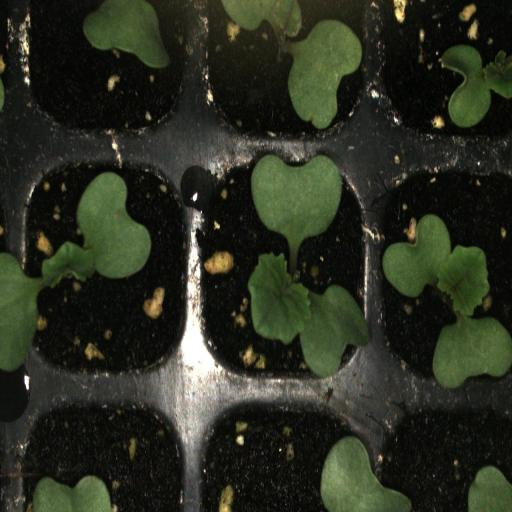Folha: (251, 152, 343, 252), (320, 436, 412, 512), (83, 0, 169, 69), (441, 45, 512, 128), (32, 475, 112, 512)
Germinacao: (194, 145, 377, 394), (11, 146, 194, 391), (372, 147, 512, 397), (196, 0, 374, 142)
